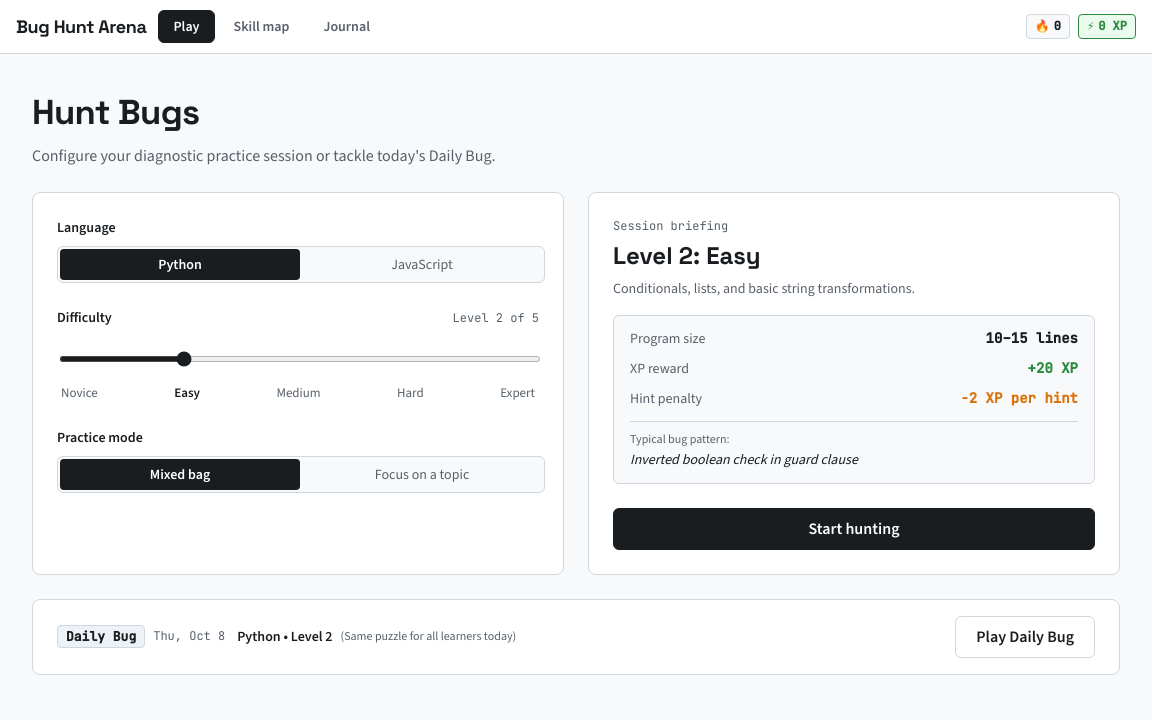
GameArena & PuzzleRoute Flow Stability › successfully transitions from Setup to Puzzle when Start hunting is pressed with sanitized API puzzle
Click the button "Start hunting" at (854, 529), box [613,508,1095,550]
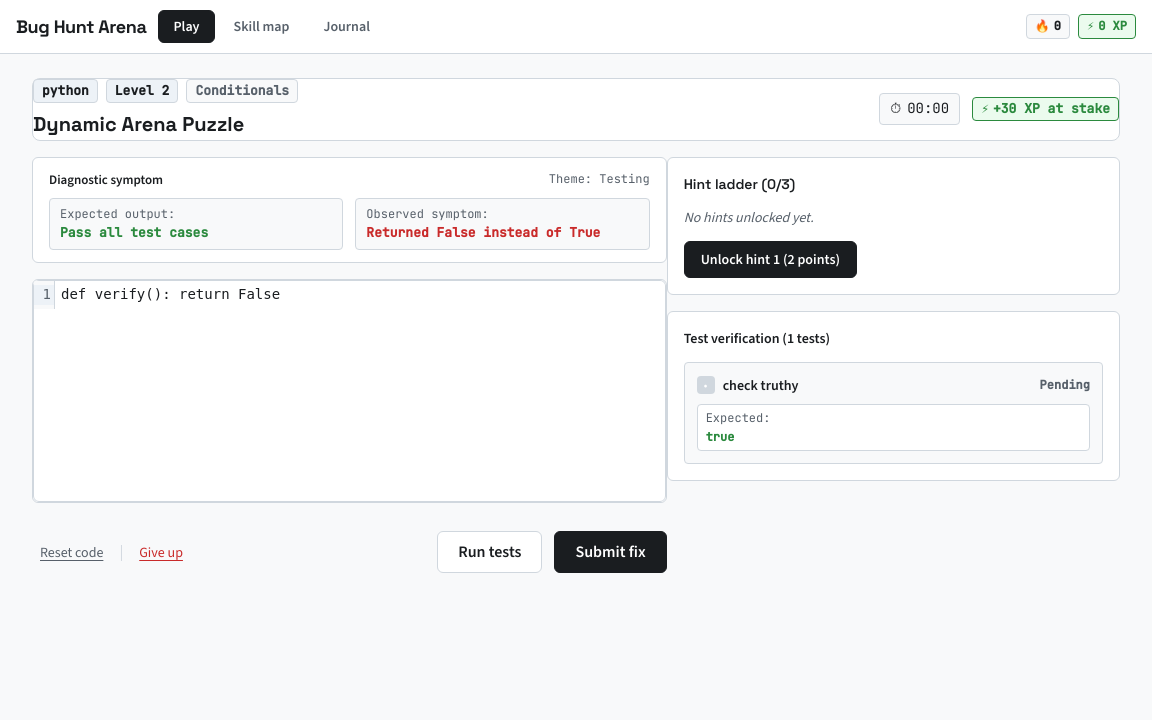
Check: the heading "Dynamic Arena Puzzle" is shown, box [33,110,244,136]
